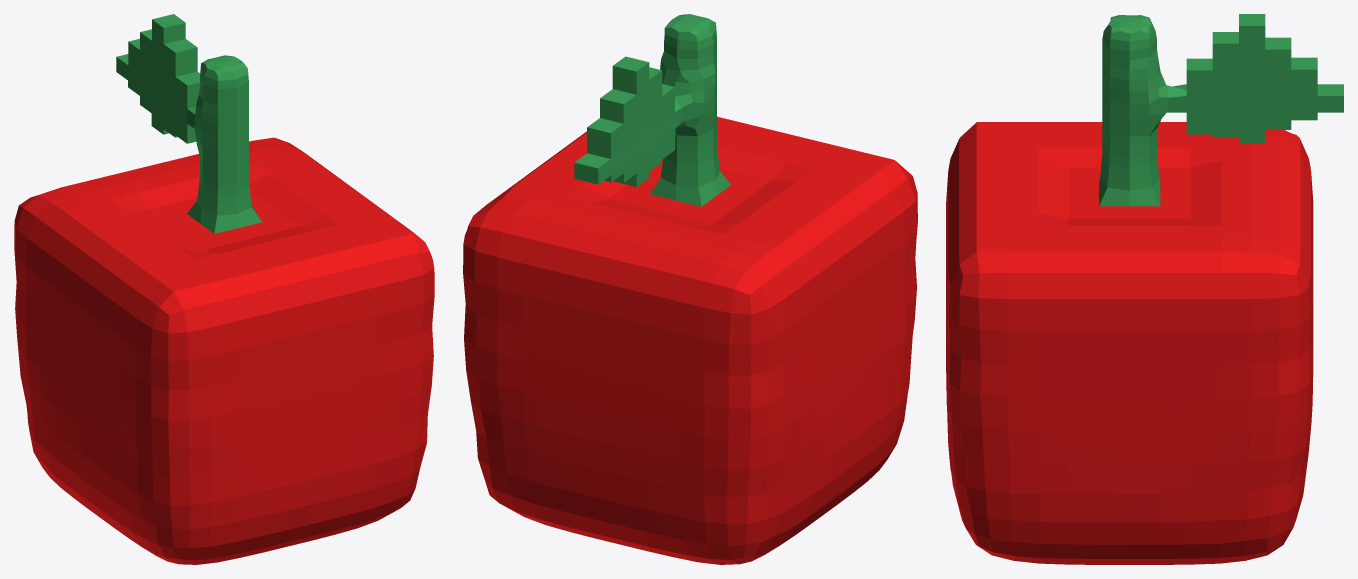
Rendered from Manzana.fbx.
3 renders of one model, left to right at view 1: azimuth 30°, elevation 25°; view 2: azimuth 150°, elevation 25°; view 3: azimuth 270°, elevation 25°, orthographic. The views are drawn at different scales.
Visible parts, largest first — view 1: Cube; view 2: Cube; view 3: Cube.
Part boxes in pixels (x1,y1,x2,y2): Cube: [14, 14, 434, 564]; Cube: [463, 14, 917, 564]; Cube: [946, 14, 1343, 564].
Size of the model in its own units: 200 by 302 by 217.
